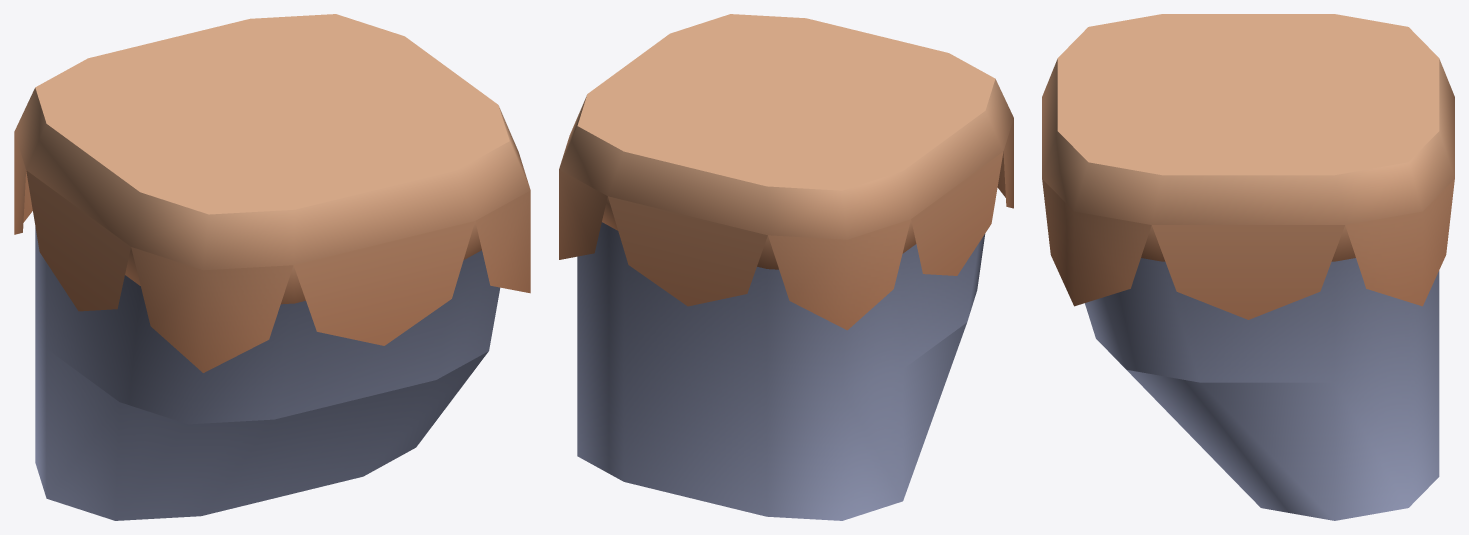
The model's file is block-grass-overhang-edge.glb.
3 views of the same model, side by side, from view 1: azimuth 30°, elevation 25°; view 2: azimuth 150°, elevation 25°; view 3: azimuth 270°, elevation 25° (orthographic). The views are drawn at different scales.
Parts seen in each view (by area): view 1: block-grass-overhang-edge; view 2: block-grass-overhang-edge; view 3: block-grass-overhang-edge.
Part boxes in pixels (x1,y1,x2,y2): block-grass-overhang-edge: [14, 14, 530, 520]; block-grass-overhang-edge: [559, 14, 1013, 520]; block-grass-overhang-edge: [1042, 14, 1454, 520].
Bounding box in the file's own units: 1.08 × 1 × 1.08.
